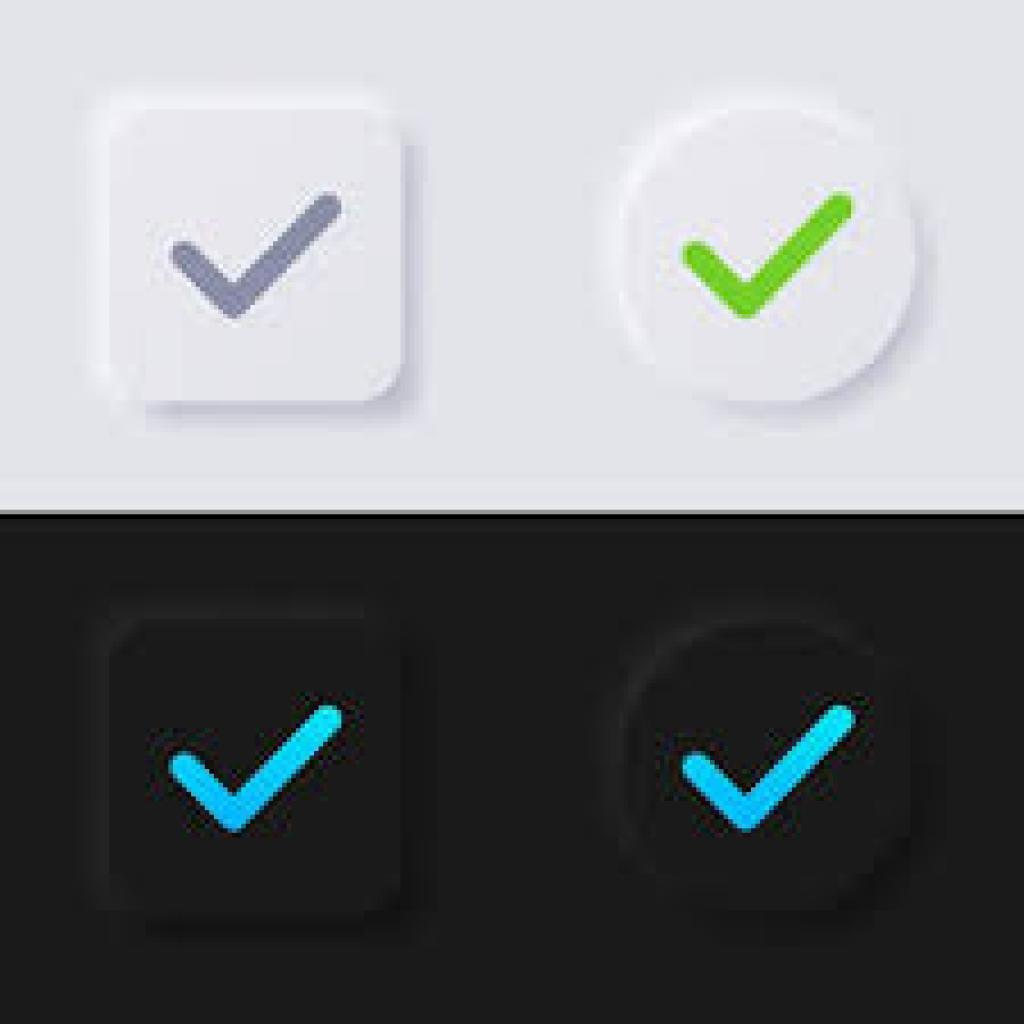checkbox: (615, 608, 919, 924), (607, 111, 923, 409), (102, 105, 408, 405), (107, 618, 400, 918)
